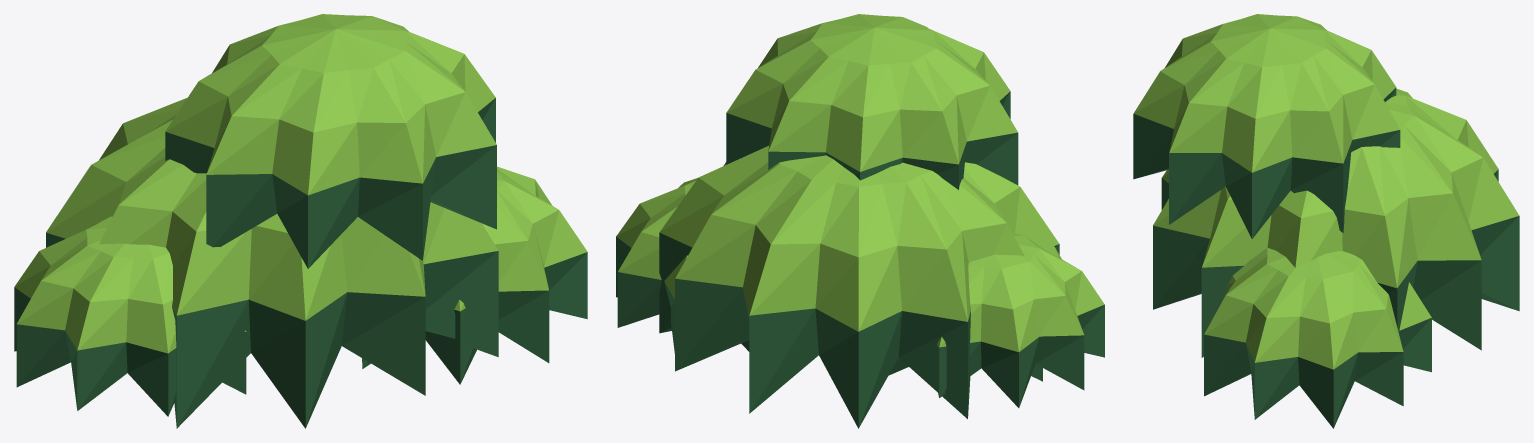
File: tree_crown_b.glb
3 views of the same model, side by side, from view 1: azimuth 30°, elevation 25°; view 2: azimuth 150°, elevation 25°; view 3: azimuth 270°, elevation 25° (orthographic). The views are drawn at different scales.
Visible parts, largest first — view 1: leaf_lit, leaf_shade; view 2: leaf_lit, leaf_shade; view 3: leaf_lit, leaf_shade.
Boxes of the visible parts, box(x1,y1,x2,y2) form: leaf_lit: box(14, 14, 587, 353); leaf_shade: box(14, 98, 587, 428); leaf_lit: box(616, 14, 1104, 352); leaf_shade: box(616, 91, 1104, 428); leaf_lit: box(1133, 14, 1519, 369); leaf_shade: box(1133, 87, 1519, 428).
Size of the model in its own units: 5.32 by 3.29 by 3.88.
